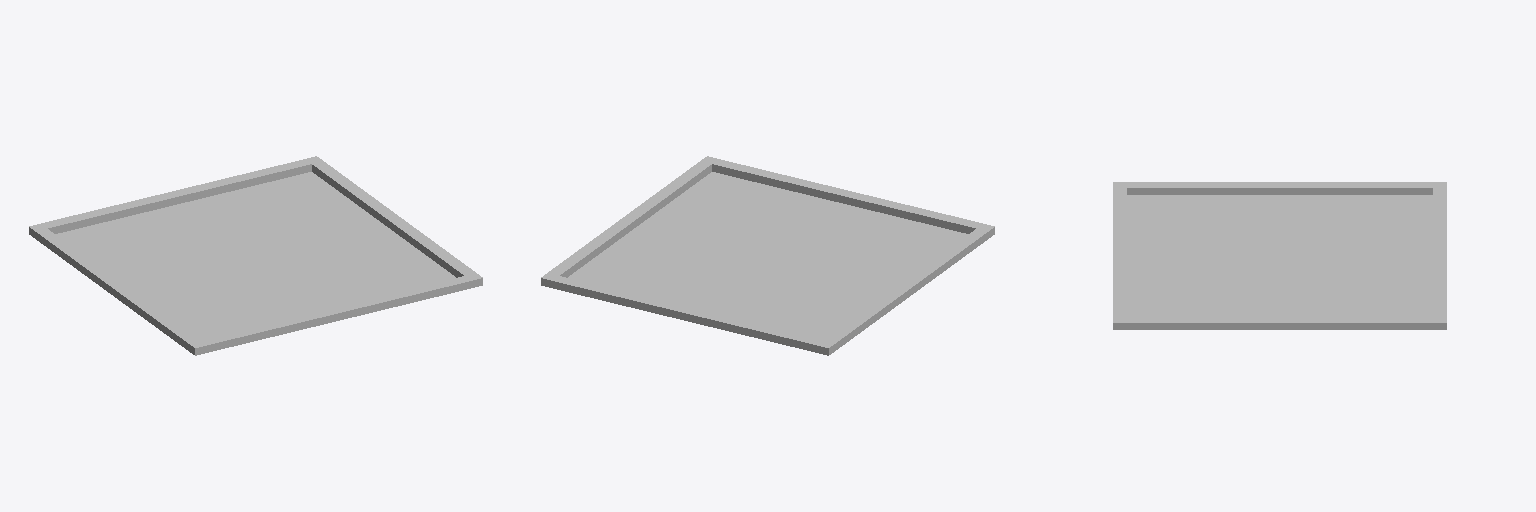
Rendered from chess_board.obj.
The picture shows the model from 3 angles: view 1: azimuth 30°, elevation 25°; view 2: azimuth 150°, elevation 25°; view 3: azimuth 270°, elevation 25°; orthographic projection.
Visible parts, largest first — view 1: Plane; view 2: Plane; view 3: Plane.
Part boxes in pixels (bbox=[...]): Plane: bbox=[29, 156, 482, 355]; Plane: bbox=[541, 156, 994, 355]; Plane: bbox=[1113, 182, 1446, 329].
Size of the model in its own units: 4.72 by 0.1181 by 4.72.